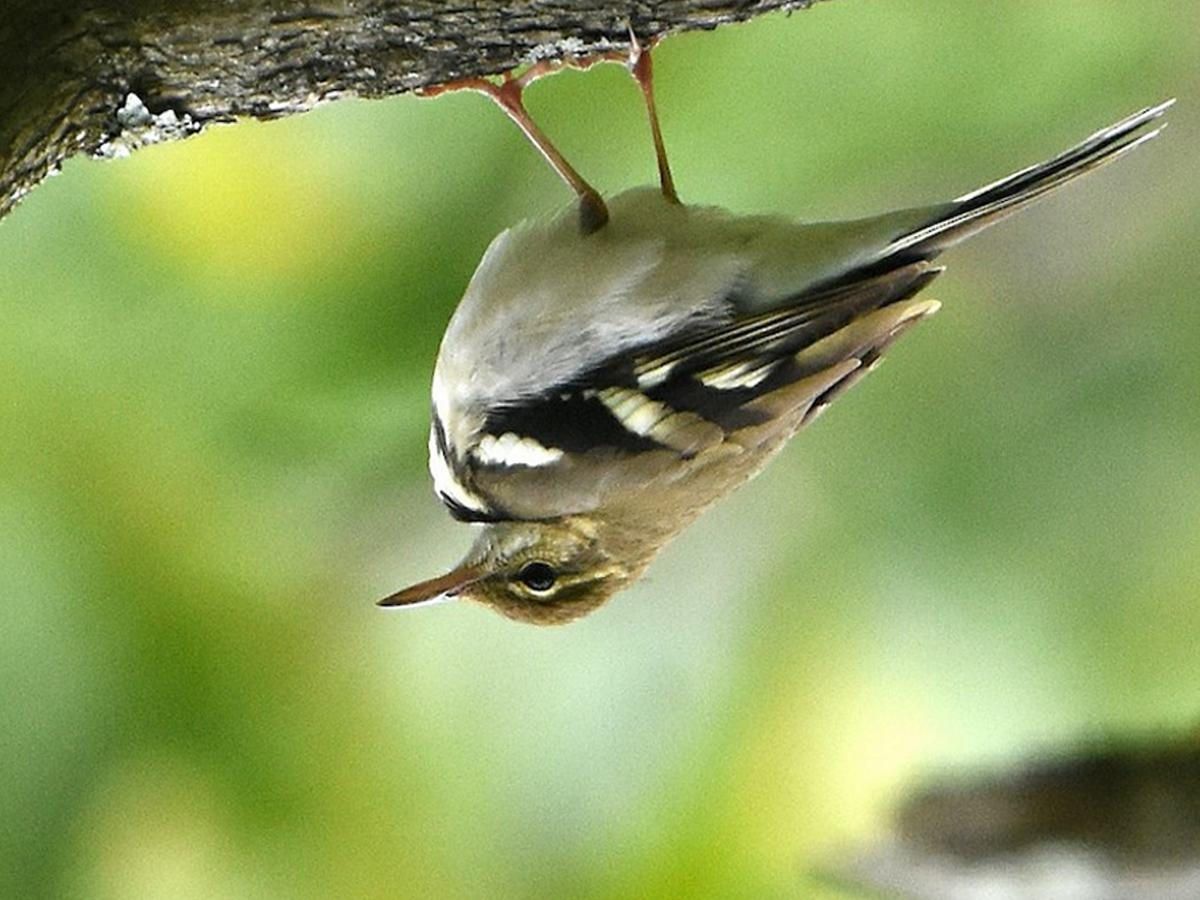wagtail: (379, 107, 1011, 624)
